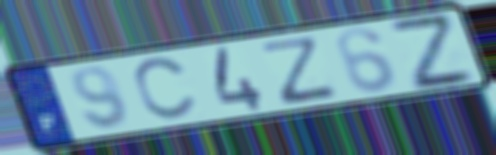4: (213, 45, 265, 113)
6: (333, 26, 400, 96)
9: (68, 65, 133, 132)
C: (130, 54, 201, 123)
Z: (384, 13, 481, 93), (260, 33, 340, 107)
